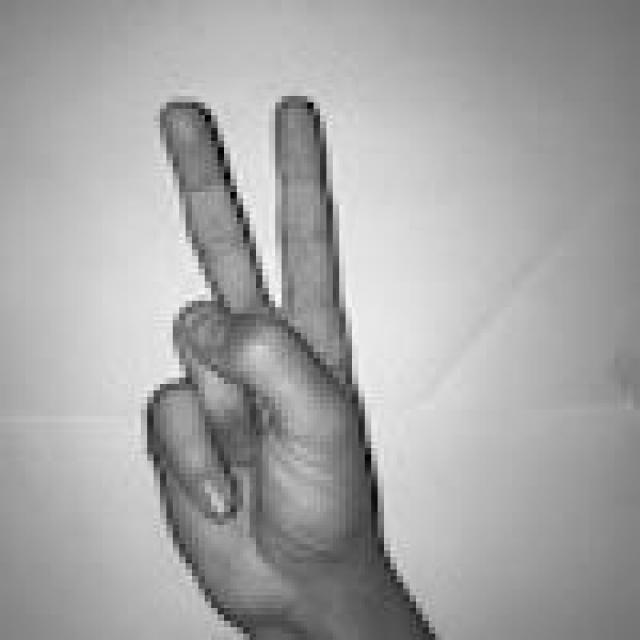V: (134, 93, 378, 640)
